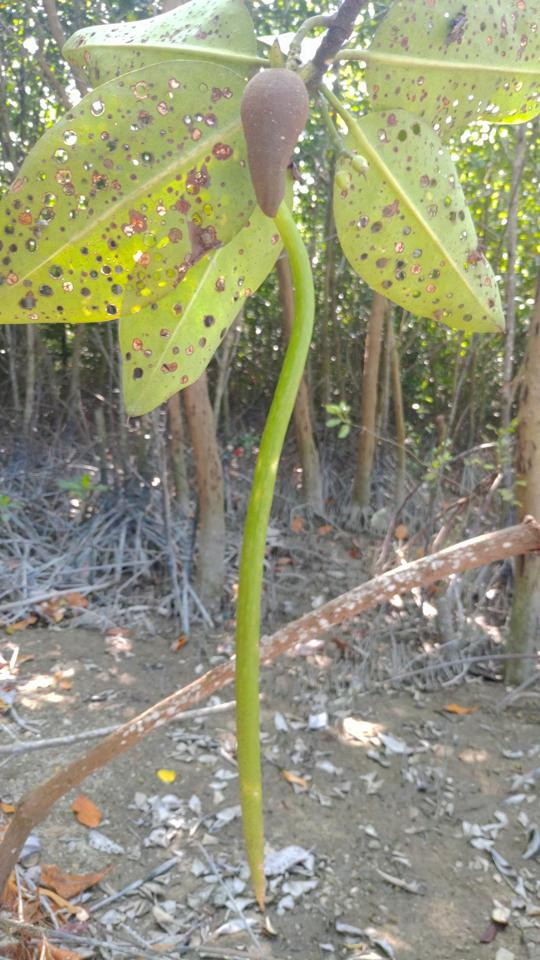mentah: (211, 32, 331, 922)
